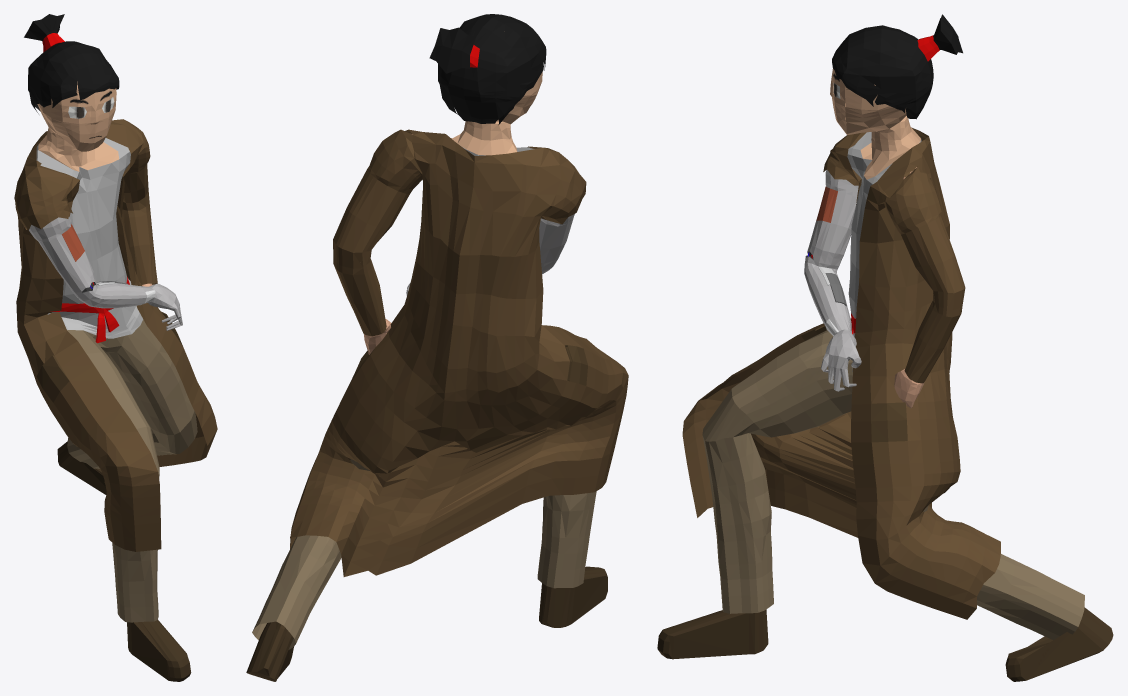
The model's file is One_RL_000003.obj.
The picture shows the model from 3 angles, left to right: view 1: azimuth 30°, elevation 25°; view 2: azimuth 150°, elevation 25°; view 3: azimuth 270°, elevation 25°; orthographic projection. The views are drawn at different scales.
Parts seen in each view (by area): view 1: Hair_Cube.004; view 2: Hair_Cube.004; view 3: Hair_Cube.004.
Boxes of the visible parts, bbox=[...] form: Hair_Cube.004: bbox=[14, 14, 217, 681]; Hair_Cube.004: bbox=[246, 14, 628, 681]; Hair_Cube.004: bbox=[657, 14, 1113, 681].
Bounding box in the file's own units: 1.31 × 3.5 × 2.28.
